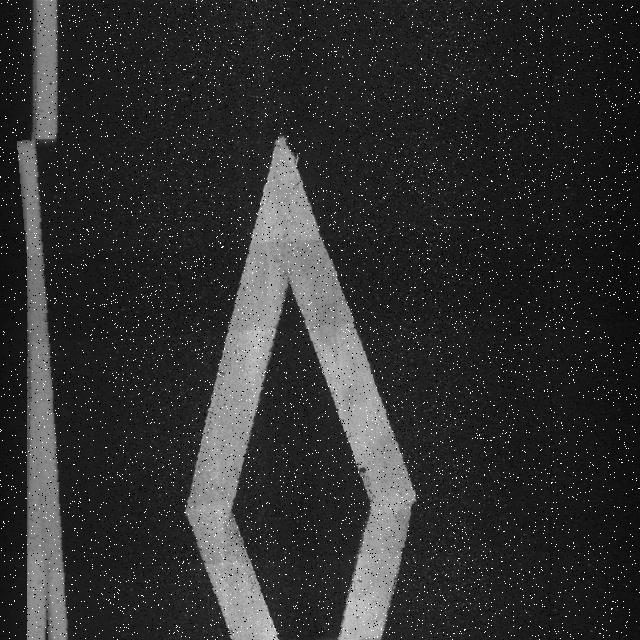diamond: (27, 109, 529, 640)
